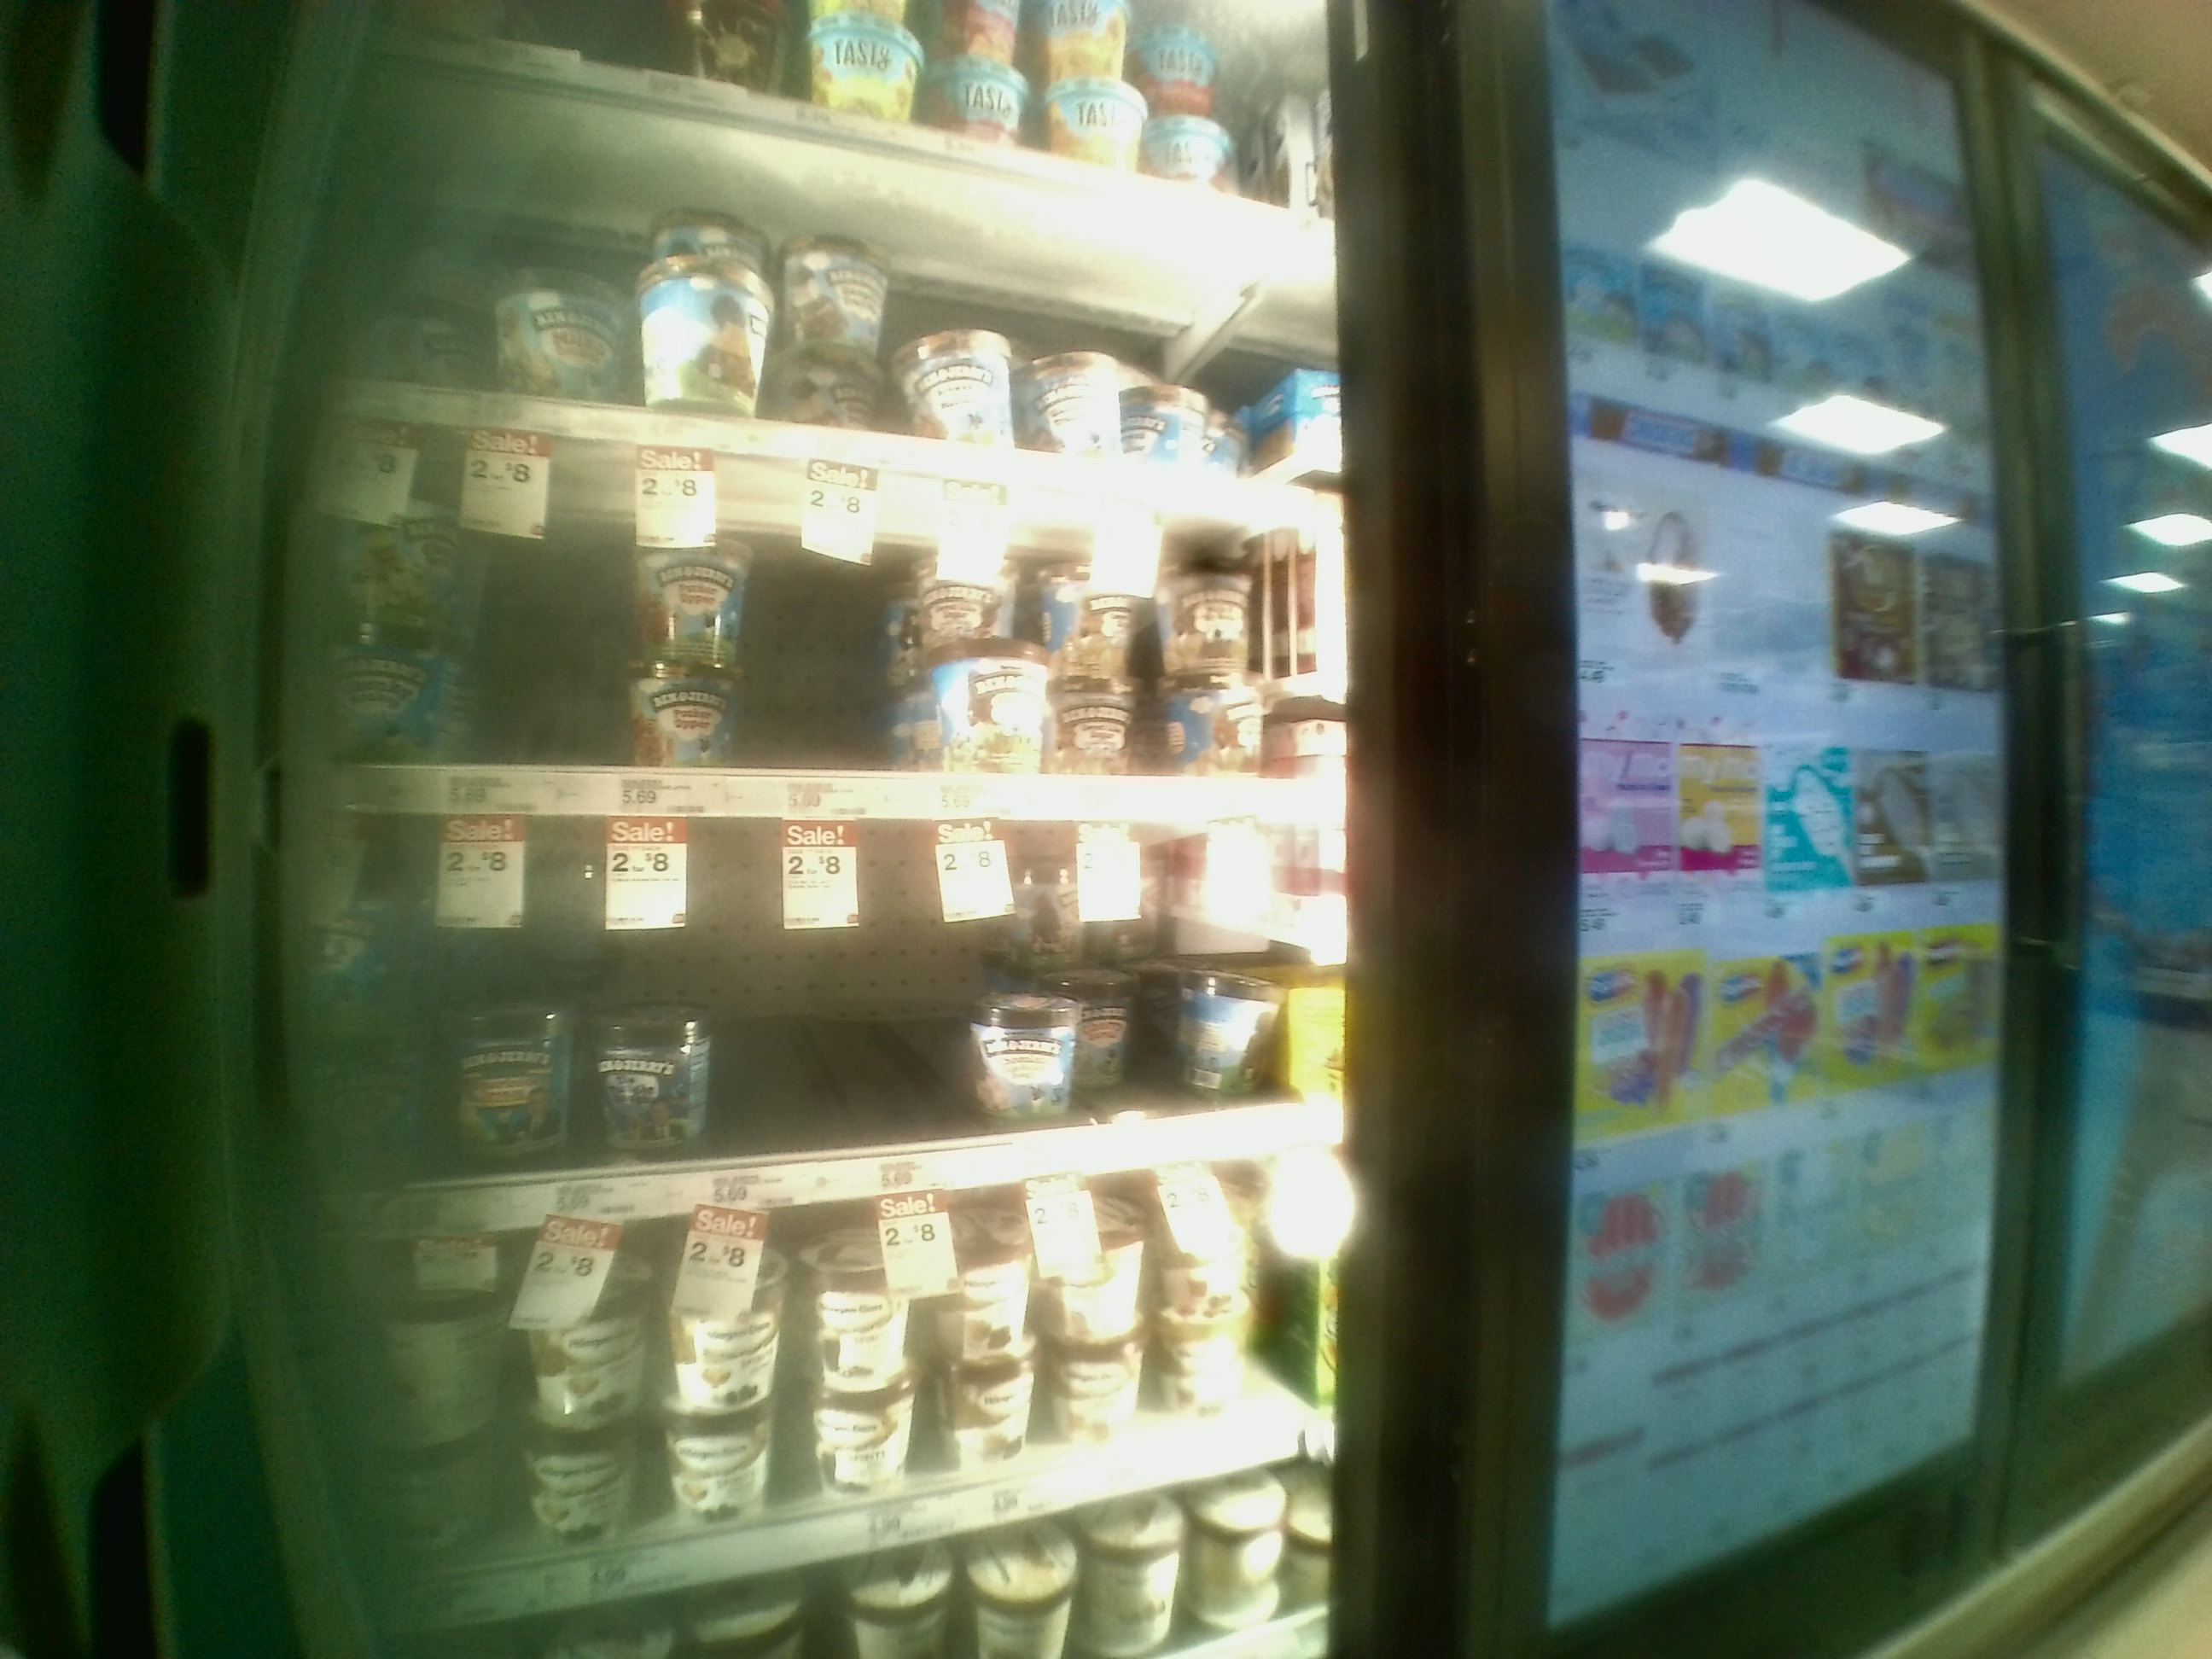shelf: (331, 824, 1378, 1229), (334, 413, 1372, 819)
